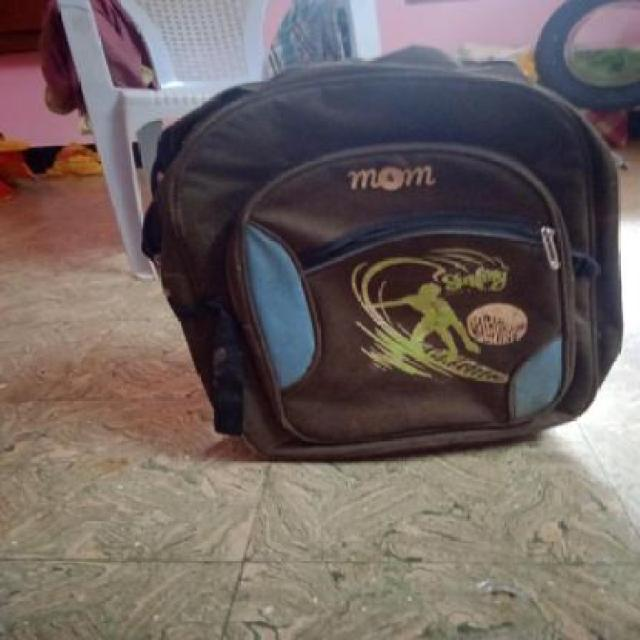backpack: (137, 42, 628, 464)
